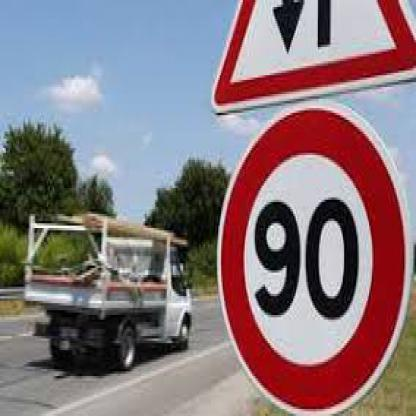Speed Limit 90: (220, 105, 410, 414)
